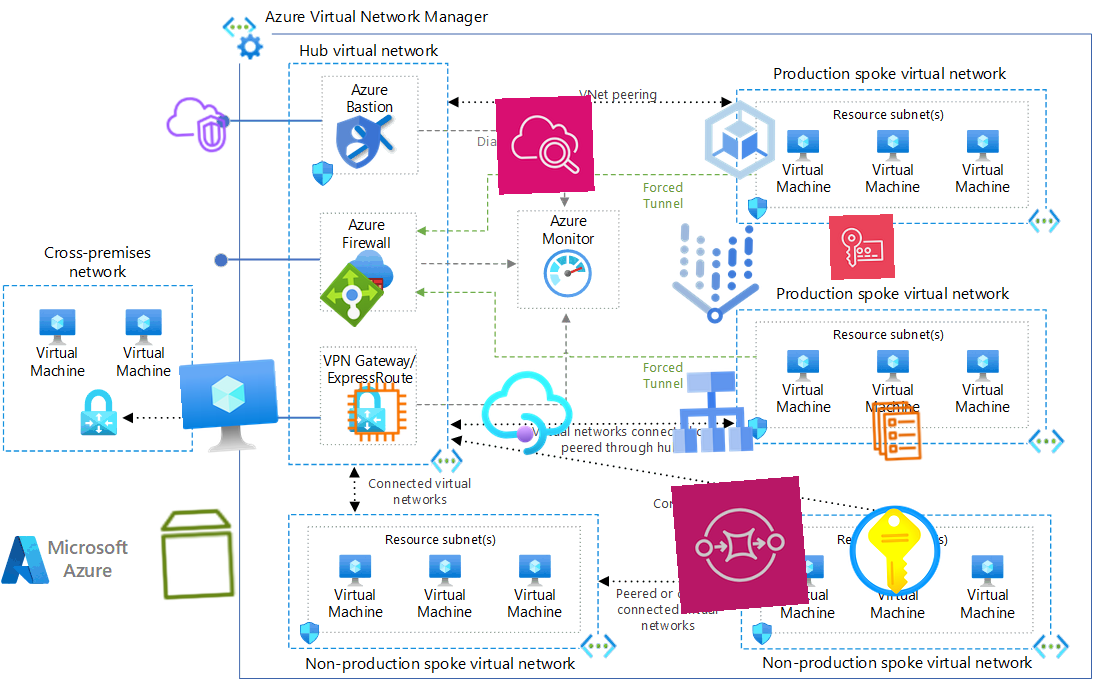aws_amazon_cloudwatch: (495, 95, 595, 195)
aws_amazon_simple_queue_service: (671, 476, 809, 614)
aws_ec2_instance: (344, 379, 410, 445)
aws_elastic_block_store_volume: (147, 503, 249, 605)
aws_elastic_container_service_service: (863, 397, 931, 465)
aws_key_management_service: (829, 214, 895, 280)
aws_vpc_virtual_private_cloud_vpc: (162, 91, 230, 159)
azure_api_management_services: (475, 361, 579, 465)
azure_key_vaults: (845, 501, 945, 601)
azure_load_balancers: (317, 260, 387, 330)
azure_virtual_machine: (178, 357, 282, 461)
gcp_cloud_load_balancing: (662, 362, 762, 462)
gcp_google_kubernetes_engine: (691, 91, 789, 189)
gcp_identity_and_access_management: (324, 108, 392, 176)
gcp_vertex_ai: (650, 208, 782, 340)
